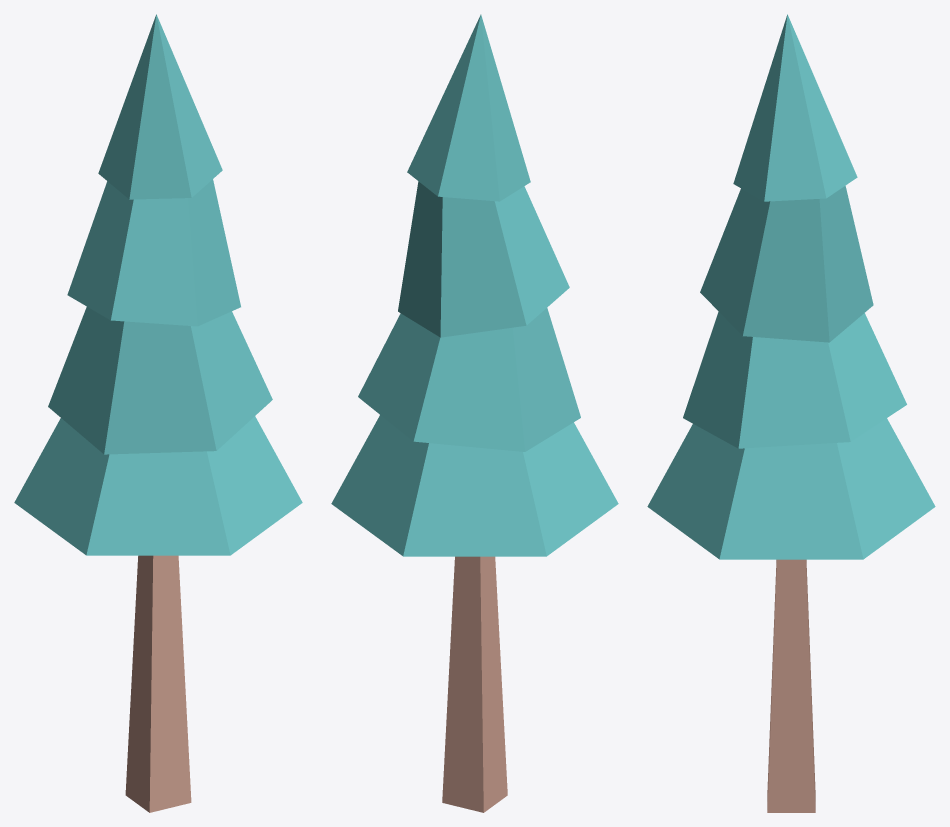
The model's file is tree_pineTallC.fbx.
The picture shows the model from 3 angles, left to right: view 1: azimuth 30°, elevation 25°; view 2: azimuth 150°, elevation 25°; view 3: azimuth 270°, elevation 25°; orthographic projection.
Visible parts, largest first — view 1: tree_pineTallC_LOD0; view 2: tree_pineTallC_LOD0; view 3: tree_pineTallC_LOD0.
Boxes of the visible parts, left/top/right/bottom form: tree_pineTallC_LOD0: left=14, top=14, right=302, bottom=812; tree_pineTallC_LOD0: left=331, top=14, right=618, bottom=812; tree_pineTallC_LOD0: left=647, top=14, right=935, bottom=812.
Size of what is drawn, in the model's own units: 48.04 by 167 by 55.47.
